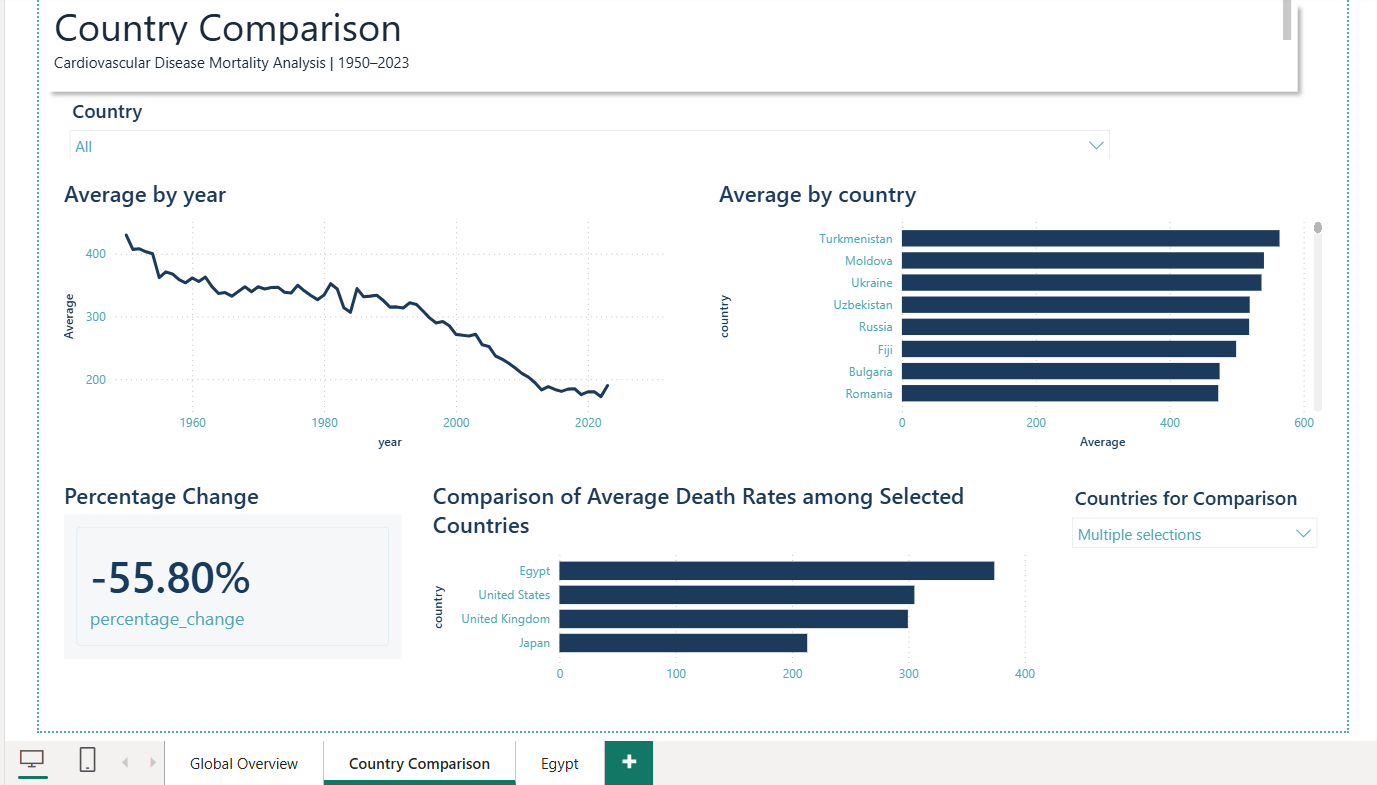

This screenshot's page, from the dashboard's own definition file:
{"tool":"powerbi","page":{"name":"Country Comparison","canvas":[1280,720],"ordinal":1},"visuals":[{"type":"slicer","fields":{"Values":["cvd_mortality_clean.country"]},"box":[20,95,1038,65],"z":0},{"type":"lineChart","fields":{"Category":["cvd_mortality_clean.year"],"Y":["cvd_mortality_clean.Average"]},"box":[20,180,600,270],"z":1000},{"type":"barChart","fields":{"Category":["cvd_mortality_clean.country"],"Y":["cvd_mortality_clean.Average"]},"box":[660,180,600,270],"z":2000},{"type":"cardVisual","title":"Percentage Change","fields":{"Data":["cvd_mortality_clean.percentage_change"]},"box":[20,475,340,180],"z":3000},{"type":"clusteredBarChart","title":"Comparison of Average Death Rates among Selected Countries","fields":{"Category":["cvd_mortality_clean.country"],"Y":["cvd_mortality_clean.Average"]},"box":[380.3,474.5,599.2,207.9],"z":4000},{"type":"slicer","fields":{"Values":["cvd_mortality_clean.country"]},"box":[1000,475,260,80],"z":5000},{"type":"shape","box":[0,0,1240,103.3],"z":6000},{"type":"textbox","box":[10,0,1220,54.1],"z":7000},{"type":"textbox","box":[10,50,391.1,31.1],"z":8000}]}

Visuals, with their boxes on the page's 1280x720 design canvas (x1, y1, x2, y2). These are canvas units, not pixel positions in the 1377x785 screenshot, which may show the page scaled, cropped or inside an application window:
slicer - cvd_mortality_clean.country: box(20, 95, 1058, 160)
lineChart - cvd_mortality_clean.year x cvd_mortality_clean.Average: box(20, 180, 620, 450)
barChart - cvd_mortality_clean.country x cvd_mortality_clean.Average: box(660, 180, 1260, 450)
"Percentage Change" cardVisual: box(20, 475, 360, 655)
"Comparison of Average Death Rates among Selected Countries" clusteredBarChart: box(380, 474, 980, 682)
slicer - cvd_mortality_clean.country: box(1000, 475, 1260, 555)
shape: box(0, 0, 1240, 103)
textbox: box(10, 0, 1230, 54)
textbox: box(10, 50, 401, 81)
